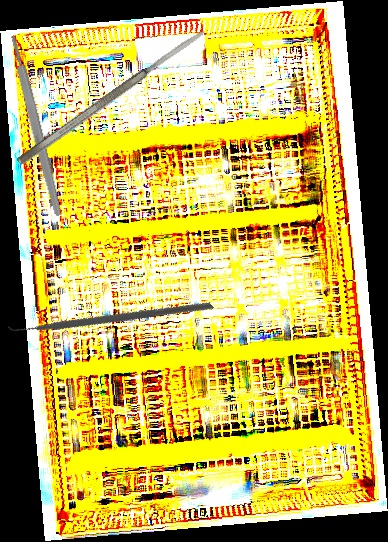Chopper: (0, 209, 214, 416)
Scalpel Handle: (8, 33, 64, 218)
Spatula Surgical: (15, 26, 208, 168)
